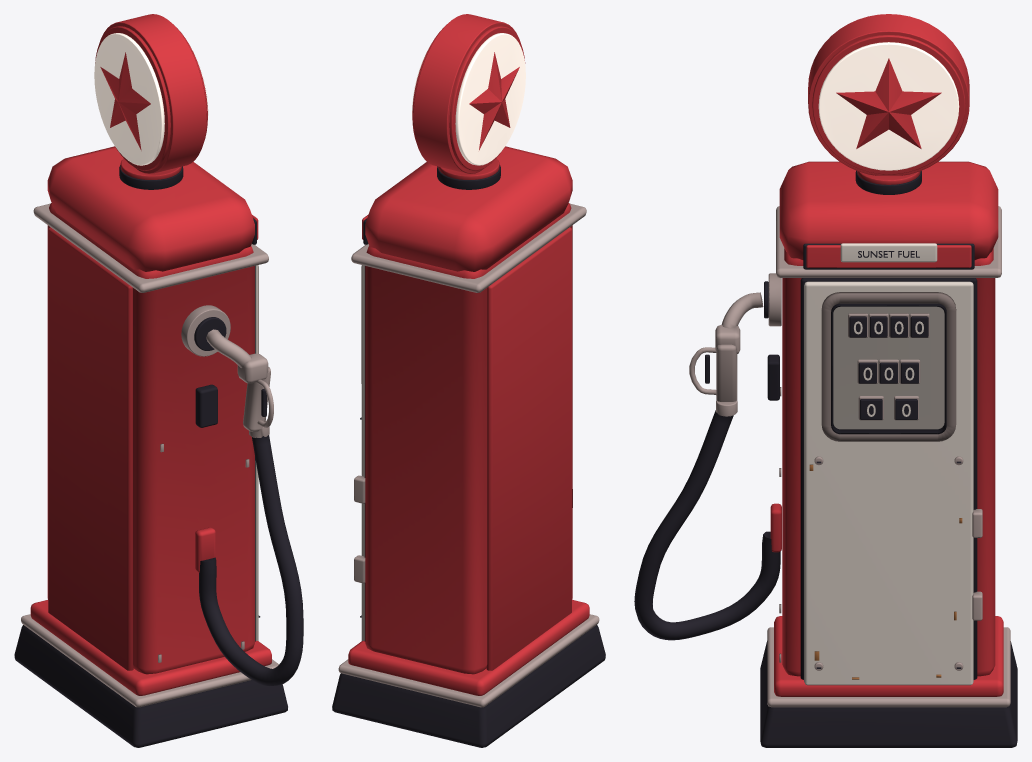
Rendered from prop.gas-pump.glb.
3 renders of one model, left to right at view 1: azimuth 30°, elevation 25°; view 2: azimuth 150°, elevation 25°; view 3: azimuth 270°, elevation 25°, orthographic. The views are drawn at different scales.
Parts seen in each view (by area): view 1: body, object 3, door_service; view 2: body, object 3, door_service; view 3: body, door_service, object 3.
Boxes of the visible parts, left/top/right/bottom form: body: left=14, top=146, right=303, bottom=747; object 3: left=94, top=14, right=273, bottom=437; door_service: left=255, top=265, right=260, bottom=640; body: left=332, top=146, right=605, bottom=747; object 3: left=412, top=14, right=525, bottom=173; door_service: left=360, top=265, right=364, bottom=640; body: left=634, top=161, right=1017, bottom=747; door_service: left=804, top=281, right=973, bottom=685; object 3: left=689, top=14, right=969, bottom=416.
Bounding box in the file's own units: 0.6788 × 2.75 × 1.38.
